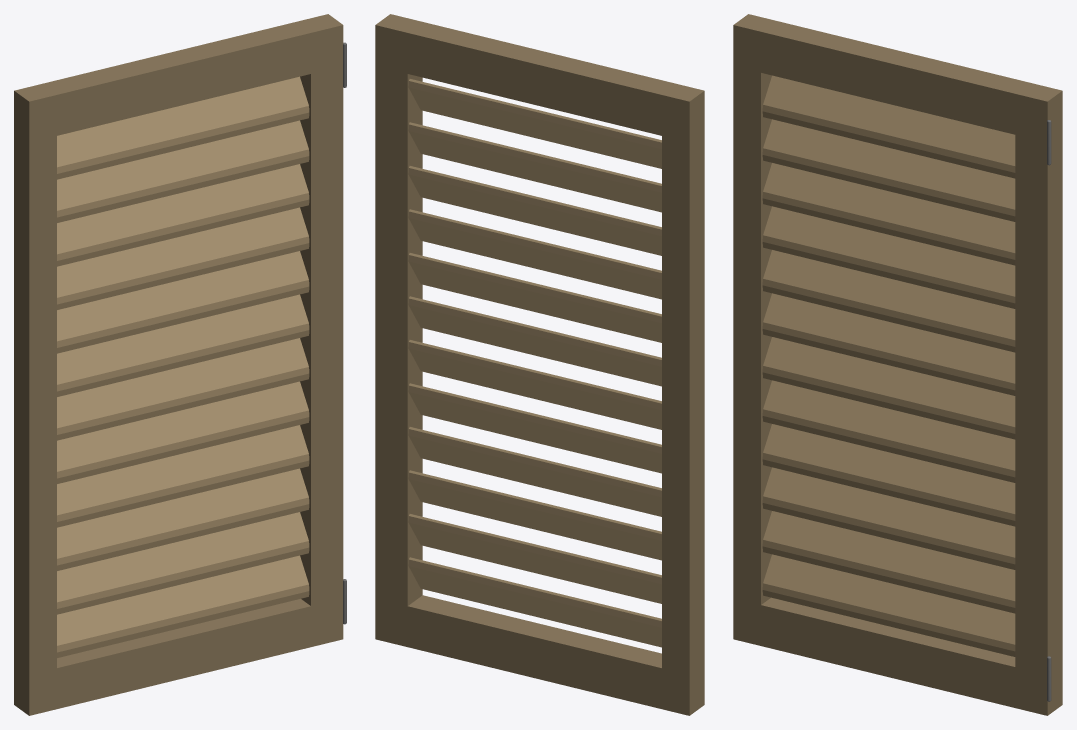
File: BirdhouseDoorL.fbx
The picture shows the model from 3 angles, left to right: view 1: azimuth 30°, elevation 25°; view 2: azimuth 150°, elevation 25°; view 3: azimuth 330°, elevation 25°; orthographic projection.
Visible parts, largest first — view 1: L; view 2: L; view 3: L.
Boxes of the visible parts, x1,y1,x2,y2 form: L: (14, 14, 346, 715); L: (375, 14, 704, 715); L: (733, 14, 1062, 715).
Size of the model in its own units: 199 by 368 by 17.41.
